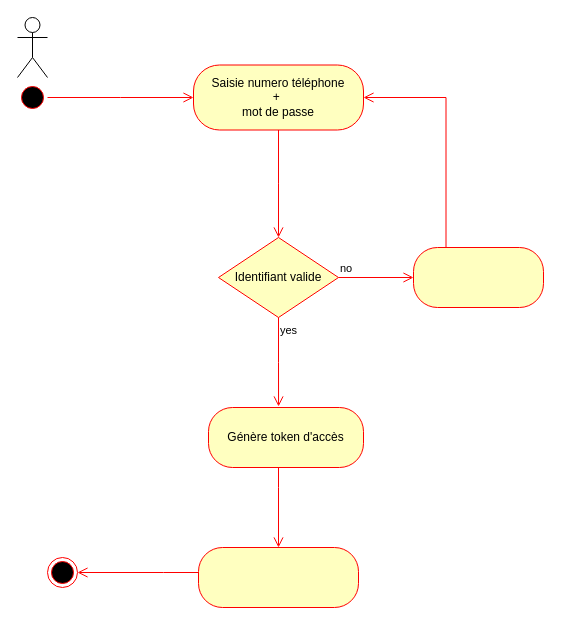
The diagram is 561 pixels wide and 625 high, and some of its shapes have lost their labels. The shapes that lost their labels are listed below. From the top down, each one's centre as x and y in pixels, then its label:
At pixel 478 277: "Affichage de l'erreur".
At pixel 278 577: "Redirige vers le dashboard".
